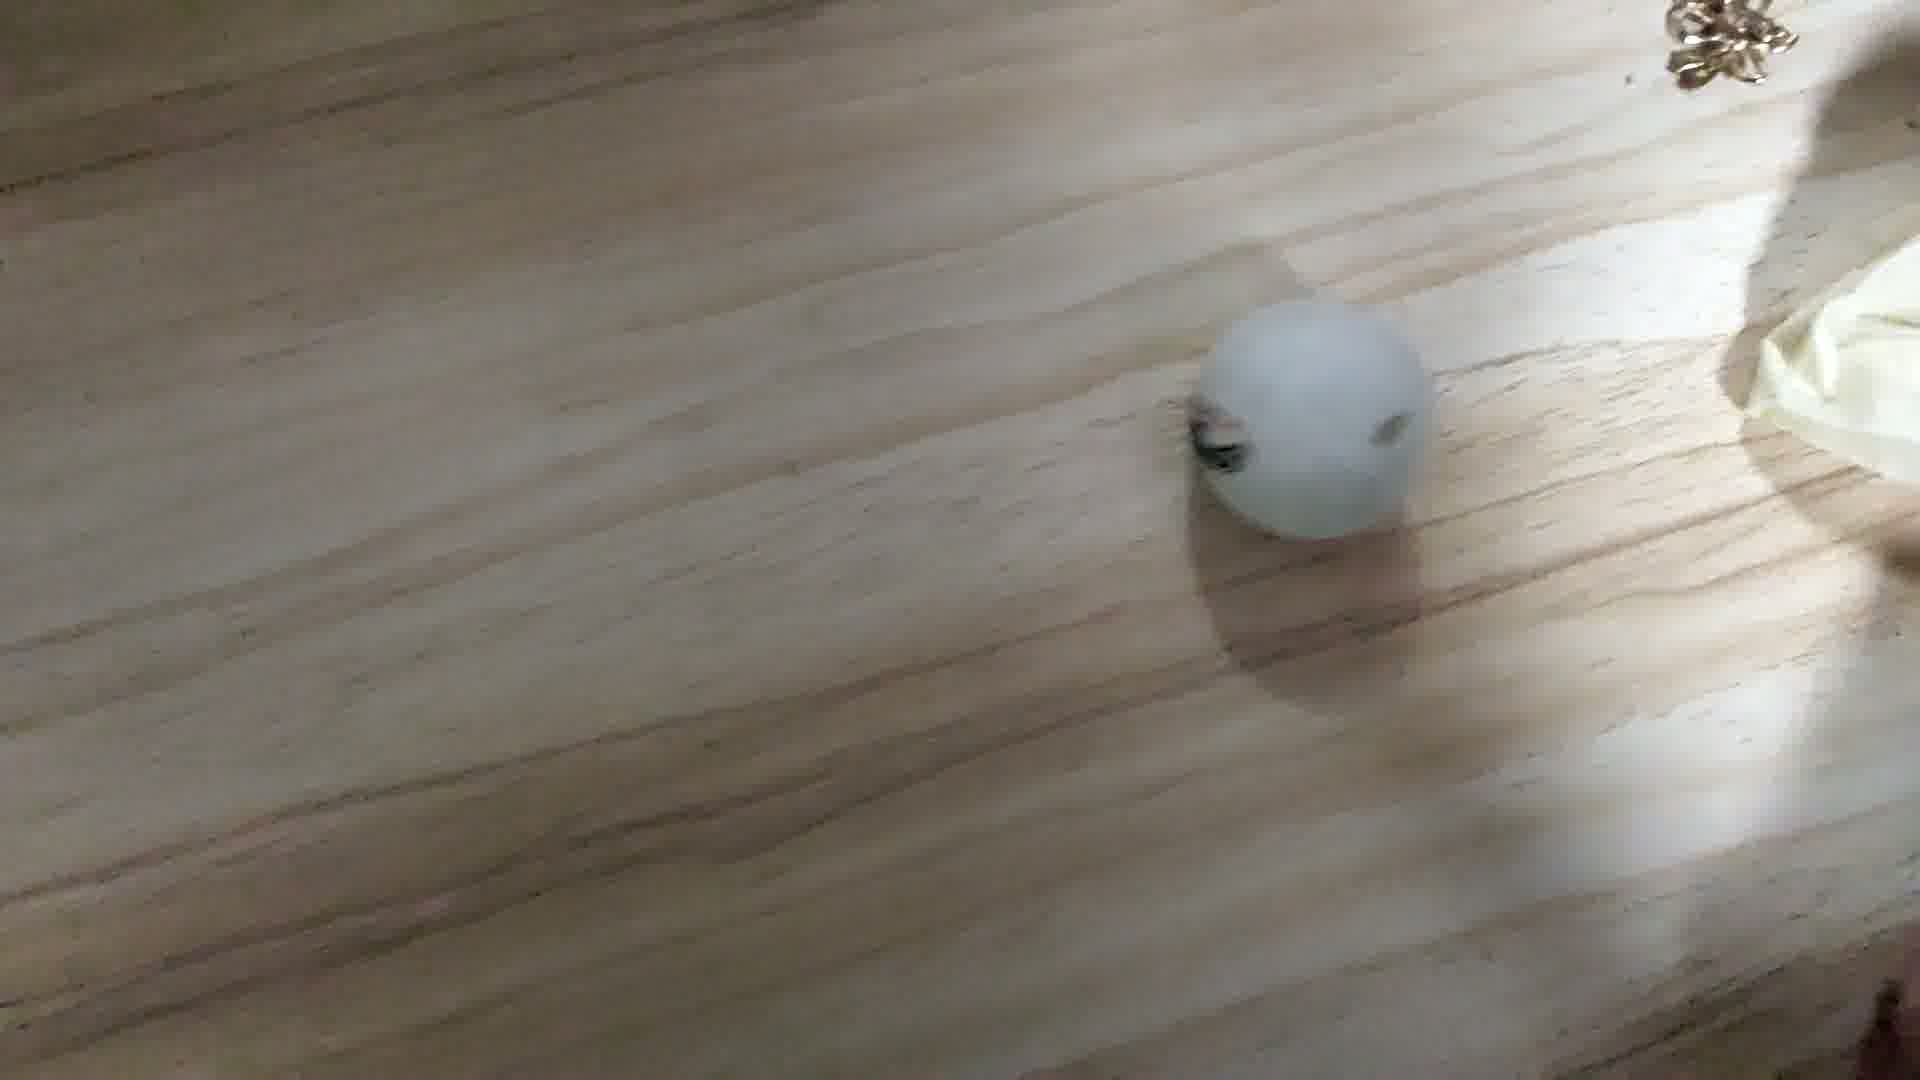Ball: (1193, 298, 1437, 550)
